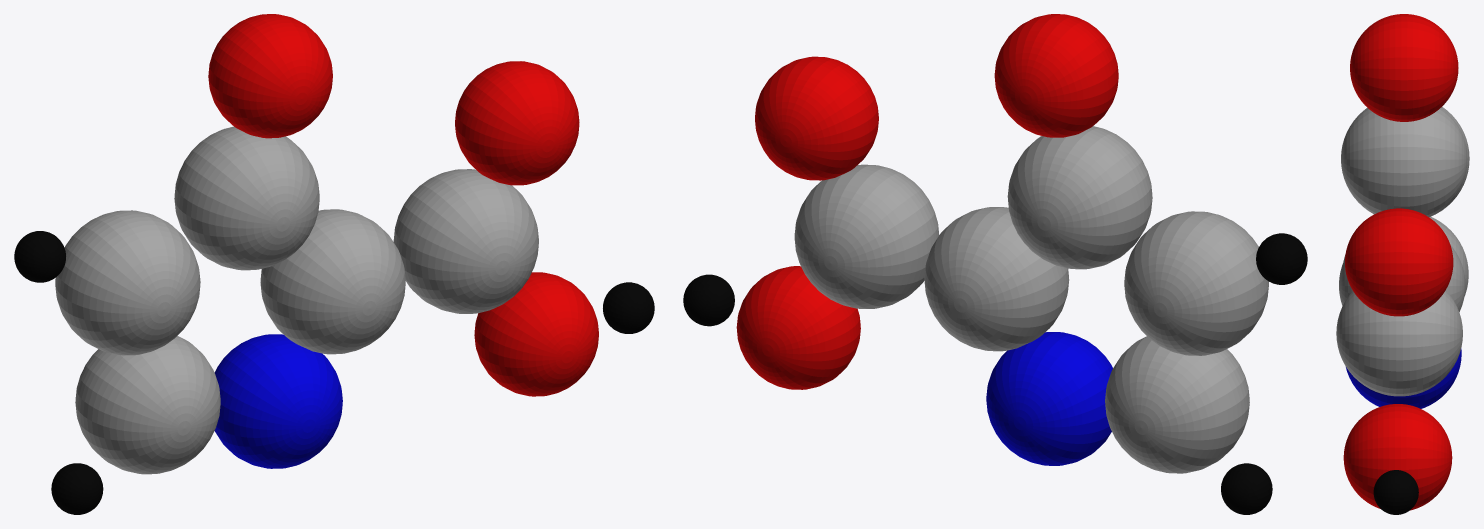
The model's file is Niacin (Vitamin B3).glb.
3 views of the same model, side by side, from view 1: azimuth 30°, elevation 25°; view 2: azimuth 150°, elevation 25°; view 3: azimuth 270°, elevation 25° (orthographic). The views are drawn at different scales.
Visible parts, largest first — view 1: world; view 2: world; view 3: world.
Boxes of the visible parts, left/top/right/bottom form: world: left=14, top=14, right=654, bottom=514; world: left=683, top=14, right=1307, bottom=514; world: left=1336, top=14, right=1469, bottom=514.
Bounding box in the file's own units: 6.96 × 4.74 × 1.47.
